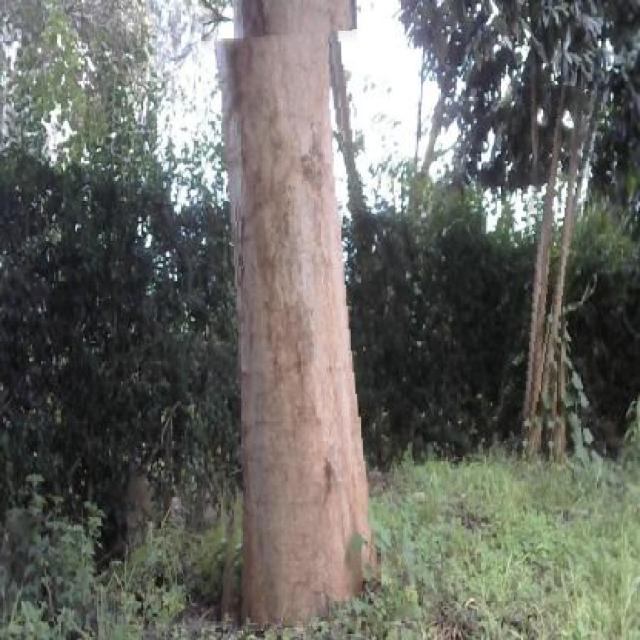tree trunk: (201, 31, 413, 629), (503, 84, 588, 473)
